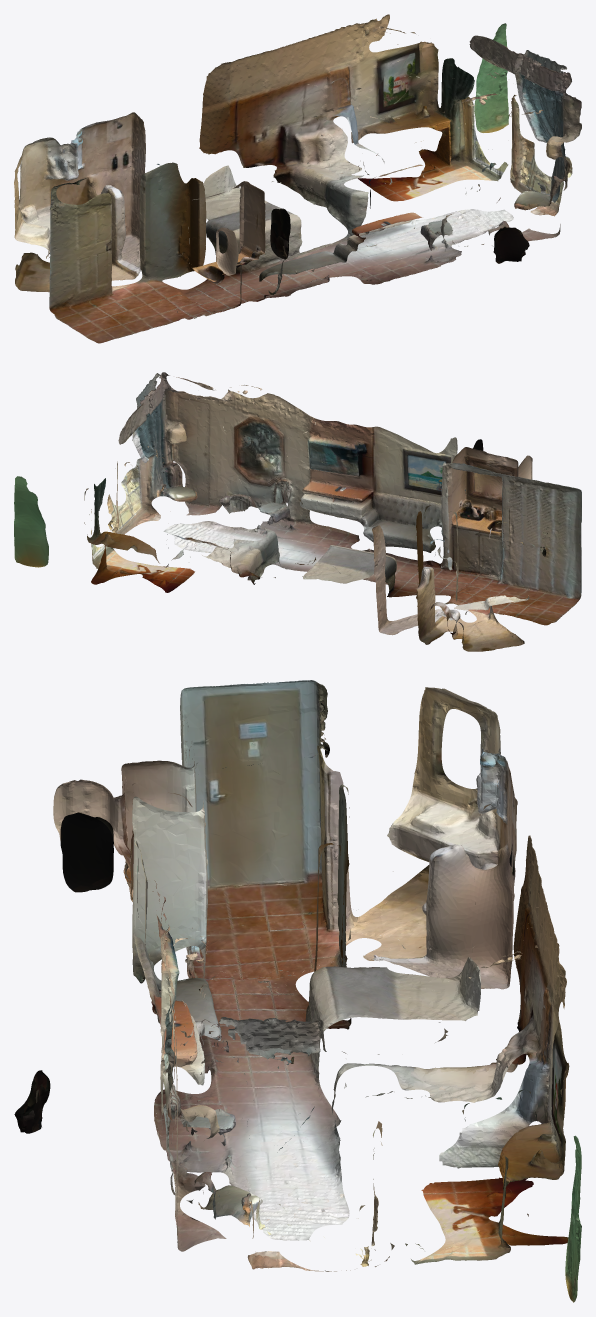
The model's file is scan-1019.glb.
3 views of the same model, one above another, from view 1: azimuth 30°, elevation 25°; view 2: azimuth 150°, elevation 25°; view 3: azimuth 270°, elevation 25° (orthographic). The views are drawn at different scales.
Bounding box in the file's own units: 9.55 × 2.66 × 5.39.
Materials: 2 (2 with a texture image).
